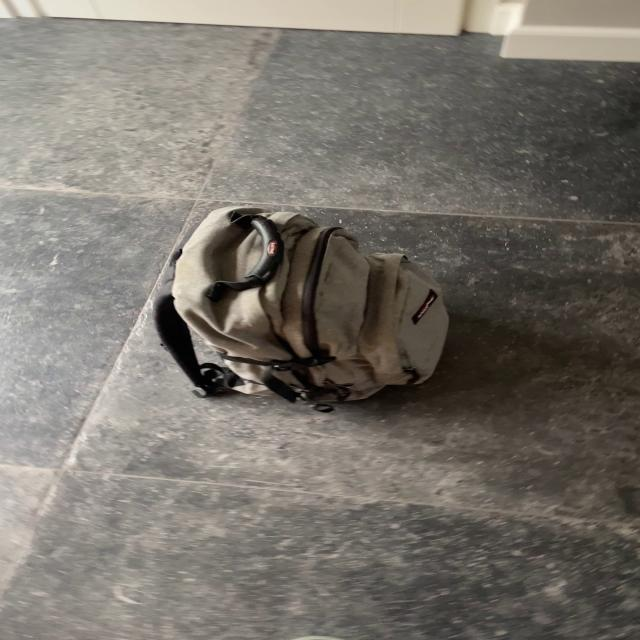backpack: (138, 202, 464, 416)
